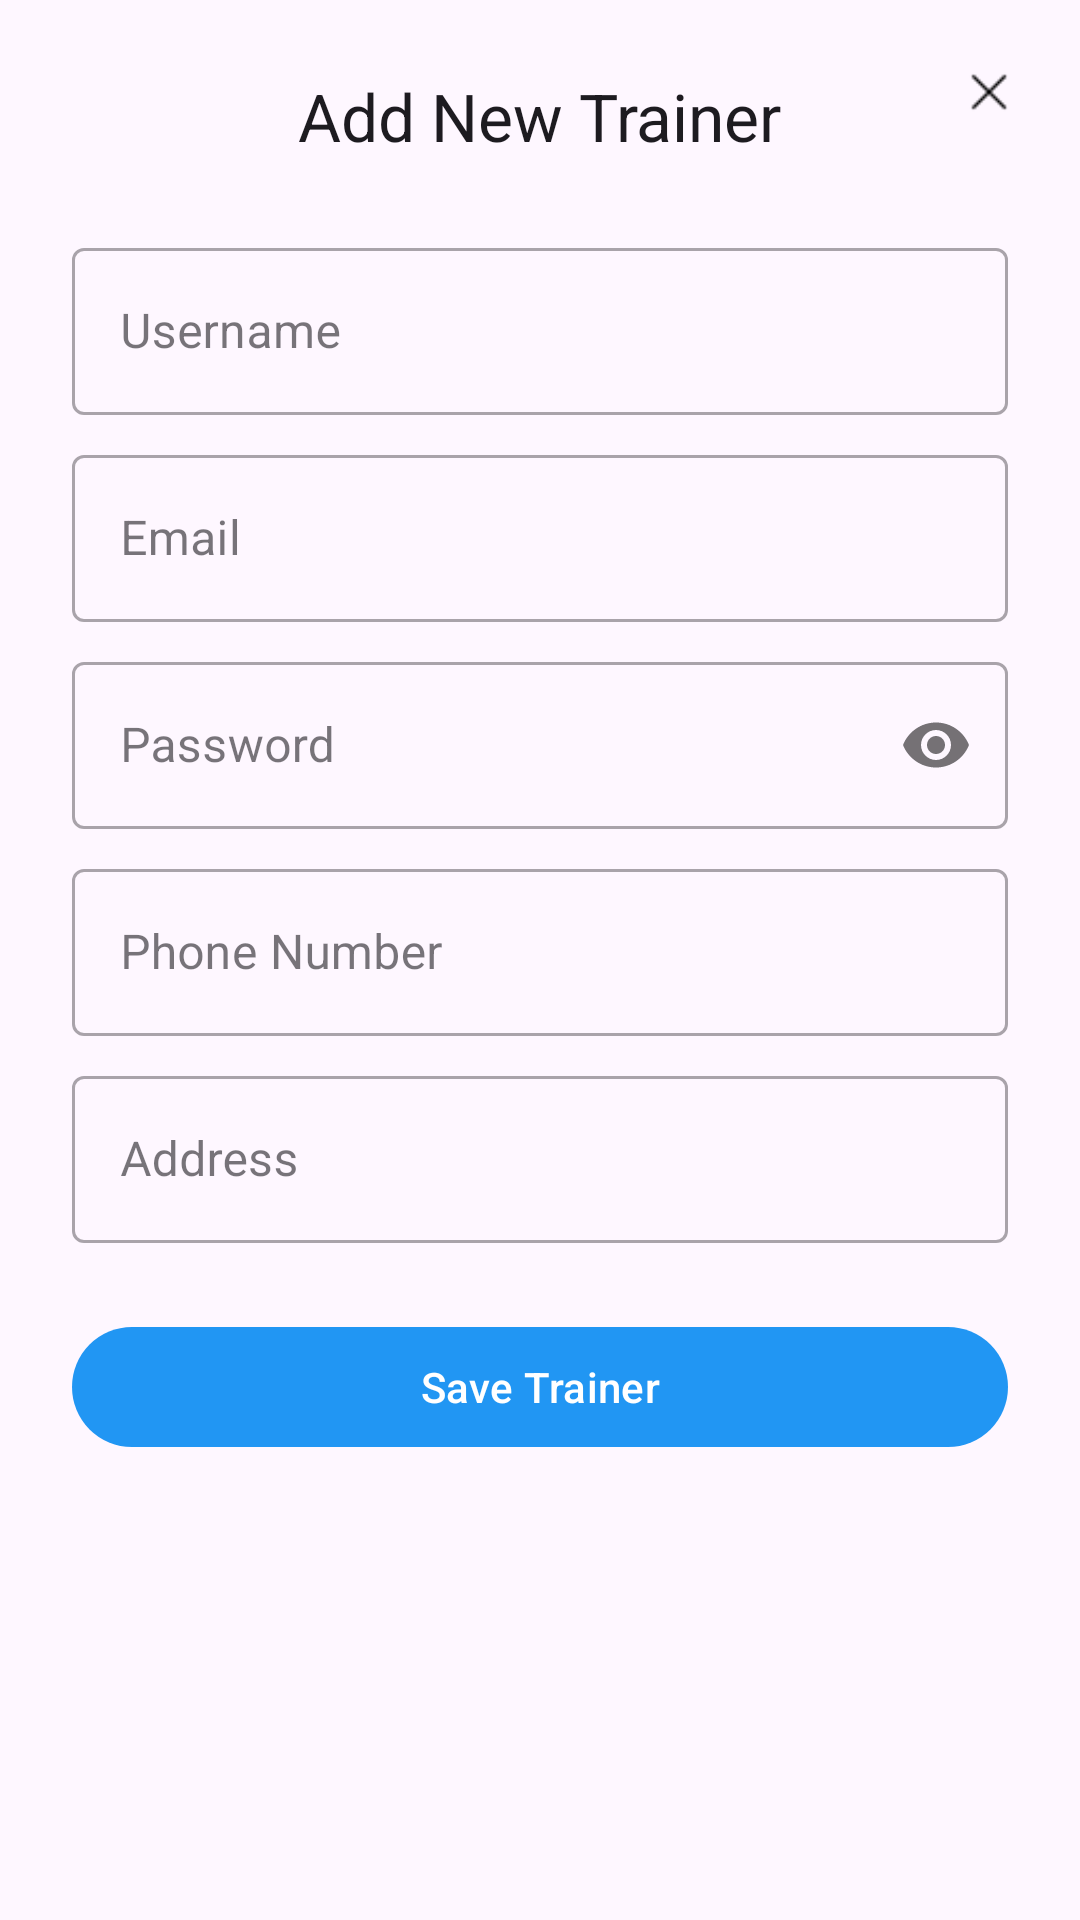

Point at icon controls on the screen. Image size 1080px x 1920px, points as [x,y].
Close dialog: [989,92]
